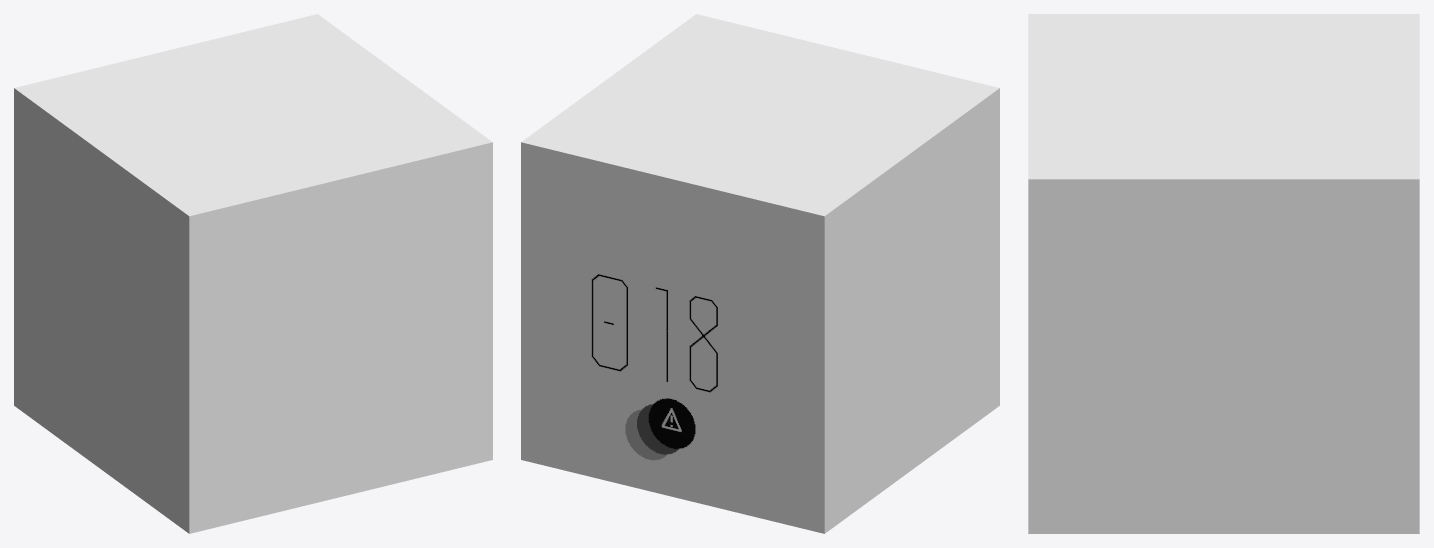
File: Scp018Box.glb
3 views of the same model, side by side, from view 1: azimuth 30°, elevation 25°; view 2: azimuth 150°, elevation 25°; view 3: azimuth 270°, elevation 25° (orthographic). The views are drawn at different scales.
Parts seen in each view (by area): view 1: Cube.001; view 2: Cube.001; view 3: Cube.001.
Boxes of the visible parts, x1,y1,x2,y2 form: Cube.001: (14, 14, 492, 533); Cube.001: (521, 14, 999, 533); Cube.001: (1028, 14, 1419, 533).
Size of the model in its own units: 3 by 3 by 3.
Materials: 2 (1 with a texture image).
